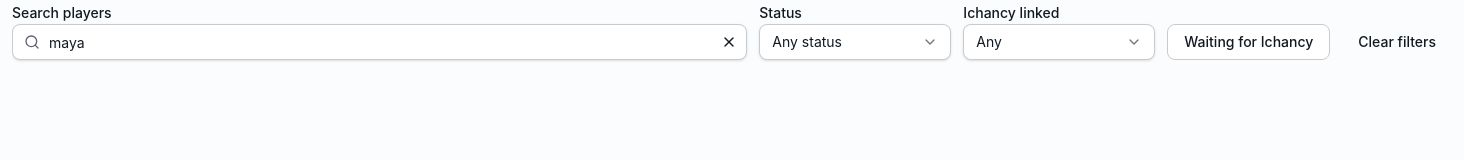
PlayerFilters › starts from the URL and can clear the search out of it again
Expected: the field labelled "Search players" holds "maya", 12,24 -> 747,60
Click the button named "Clear search" at coordinates (729, 42), box 713,26 -> 745,58
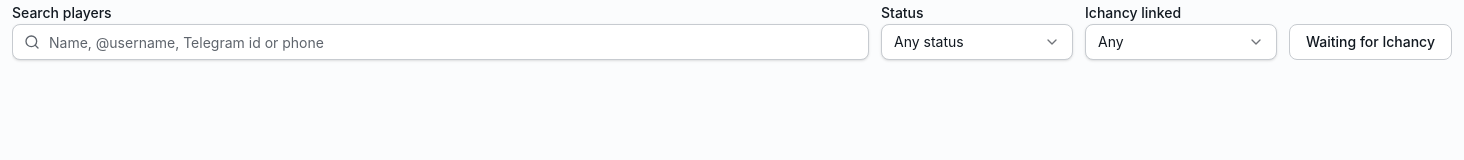
Result: the field labelled "Search players" is empty at 12,24 -> 869,60
